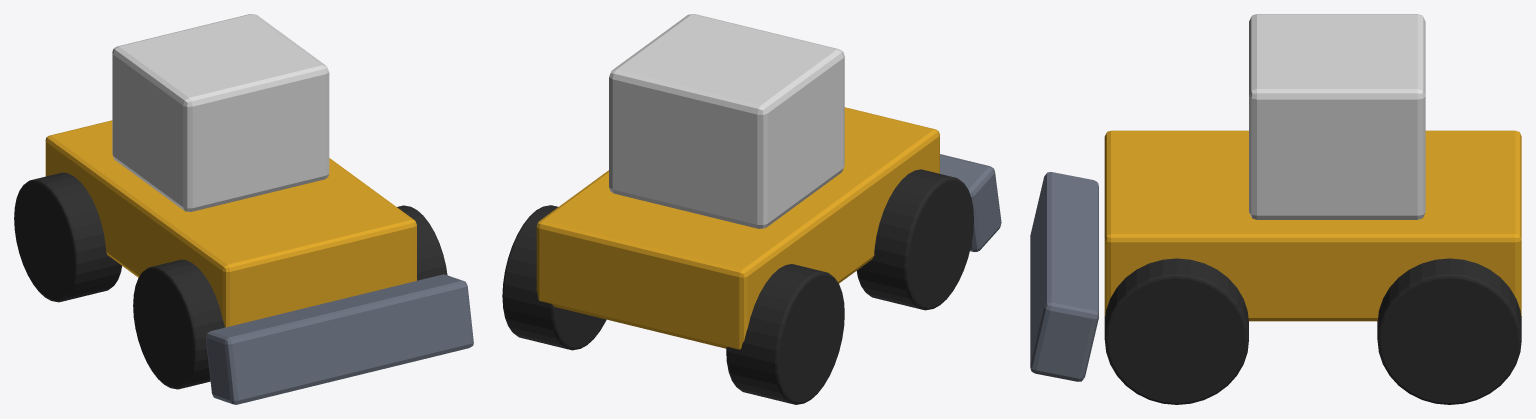
Rendered from engin.glb.
3 views of the same model, side by side, from view 1: azimuth 30°, elevation 25°; view 2: azimuth 150°, elevation 25°; view 3: azimuth 270°, elevation 25° (orthographic). The views are drawn at different scales.
Visible parts, largest first — view 1: corps, cabine, roue_ARD, roue_AVD, roue_AVG; view 2: corps, cabine, roue_ARD, roue_AVD, roue_ARG; view 3: corps, cabine, roue_AVG, roue_ARG.
Part boxes in pixels (x1,y1,x2,y2): corps: (45,120,473,404); cabine: (112,14,329,211); roue_ARD: (14,172,121,302); roue_AVD: (133,259,224,389); roue_AVG: (397,205,447,280); corps: (536,107,1001,349); cabine: (609,14,844,228); roue_ARD: (726,264,844,404); roue_AVD: (856,169,973,310); roue_ARG: (502,205,606,350); corps: (1030,130,1521,381); cabine: (1249,14,1425,219); roue_AVG: (1104,258,1248,404); roue_ARG: (1377,258,1521,404).
Bounding box in the file's own units: 2.1 × 1.95 × 3.06.
